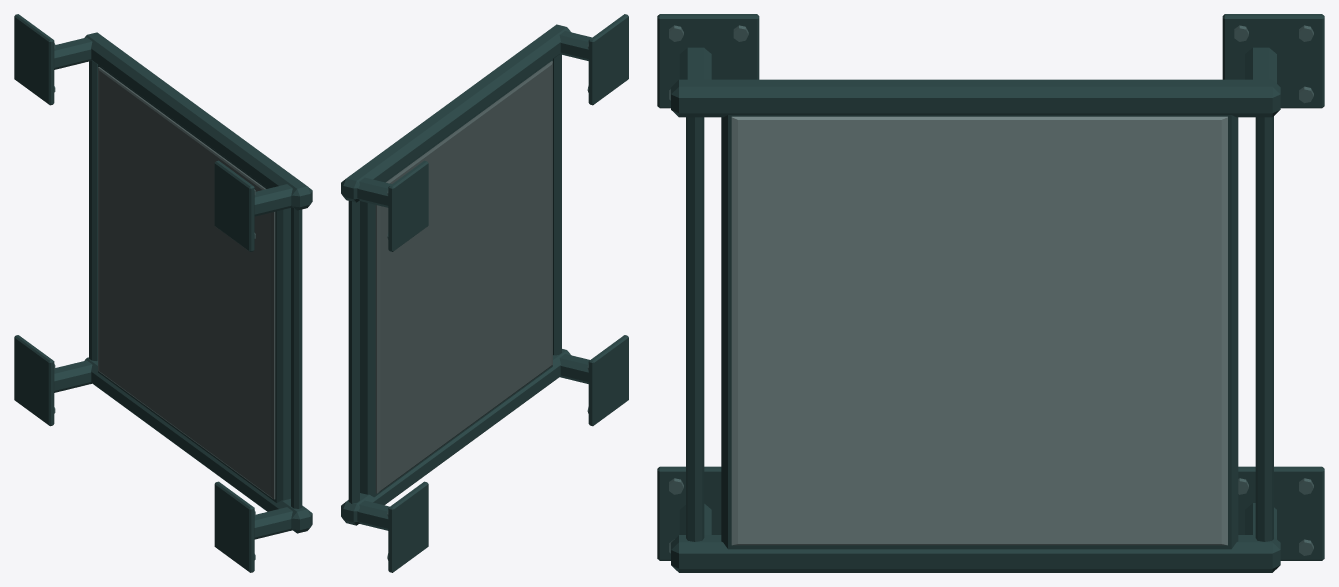
File: signboard square to wall.fbx
The picture shows the model from 3 angles, left to right: view 1: azimuth 30°, elevation 25°; view 2: azimuth 150°, elevation 25°; view 3: azimuth 270°, elevation 25°; orthographic projection. The views are drawn at different scales.
Parts seen in each view (by area): view 1: polySurface86; view 2: polySurface86; view 3: polySurface86.
Boxes of the visible parts, x1,y1,x2,y2 form: polySurface86: [14, 14, 312, 572]; polySurface86: [341, 14, 628, 572]; polySurface86: [657, 14, 1324, 572].
Size of the model in its own units: 0.1685 by 0.8807 by 0.9771.
